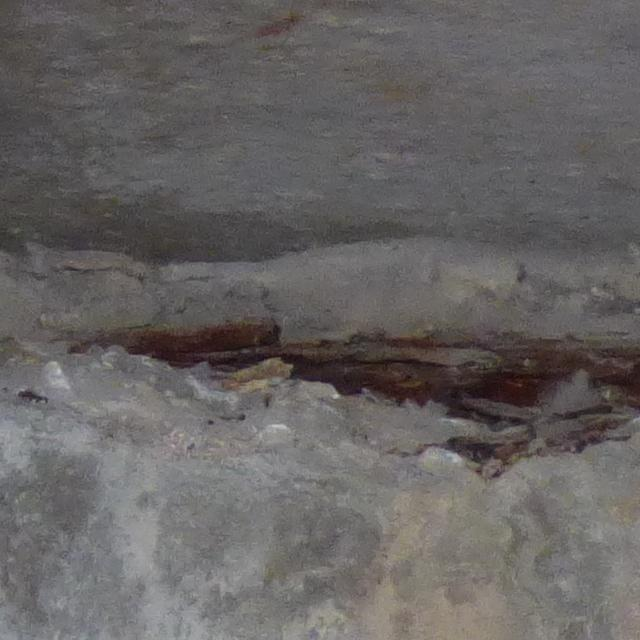Rust: (112, 322, 636, 397), (441, 427, 577, 481)
